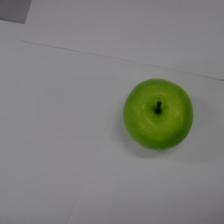green: (124, 79, 193, 150)
